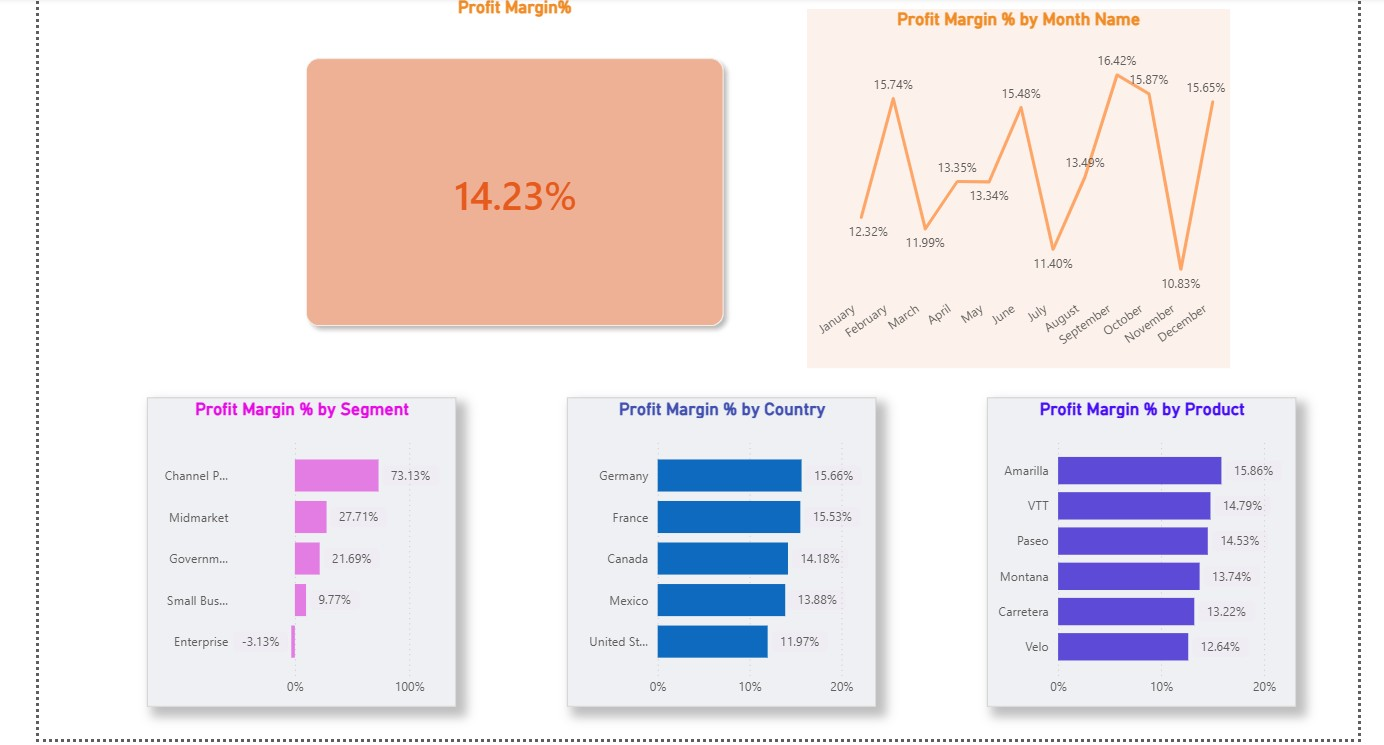

The dashboard page shown, as its layout file describes it:
{"tool":"powerbi","page":{"name":"Profitability & Performance","canvas":[1280,720],"ordinal":1},"visuals":[{"type":"cardVisual","title":"Profit Margin%","fields":{"Data":["financials.Profit Margin %"]},"box":[229.9,0,463.5,348.5],"z":0},{"type":"clusteredBarChart","fields":{"Y":["financials.Profit Margin %"],"Category":["financials.Segment"]},"box":[105.2,388.9,300,300],"z":1000},{"type":"clusteredBarChart","fields":{"Category":["financials.Country"],"Y":["financials.Profit Margin %"]},"box":[512.4,388.9,300,300],"z":2000},{"type":"clusteredBarChart","fields":{"Category":["financials.Product"],"Y":["financials.Profit Margin %"]},"box":[919.6,388.9,300,300],"z":4000},{"type":"lineChart","fields":{"Category":["financials.Month Name"],"Y":["financials.Profit Margin %"]},"box":[745.9,11,410.9,348.5],"z":5000}]}

Visuals, with their boxes on the page's 1280x720 design canvas (x1, y1, x2, y2). These are canvas units, not pixel positions in the 1384x745 screenshot, which may show the page scaled, cropped or inside an application window:
"Profit Margin%" cardVisual: 230,0,693,348
clusteredBarChart - financials.Profit Margin % x financials.Segment: 105,389,405,689
clusteredBarChart - financials.Country x financials.Profit Margin %: 512,389,812,689
clusteredBarChart - financials.Product x financials.Profit Margin %: 920,389,1220,689
lineChart - financials.Month Name x financials.Profit Margin %: 746,11,1157,360
